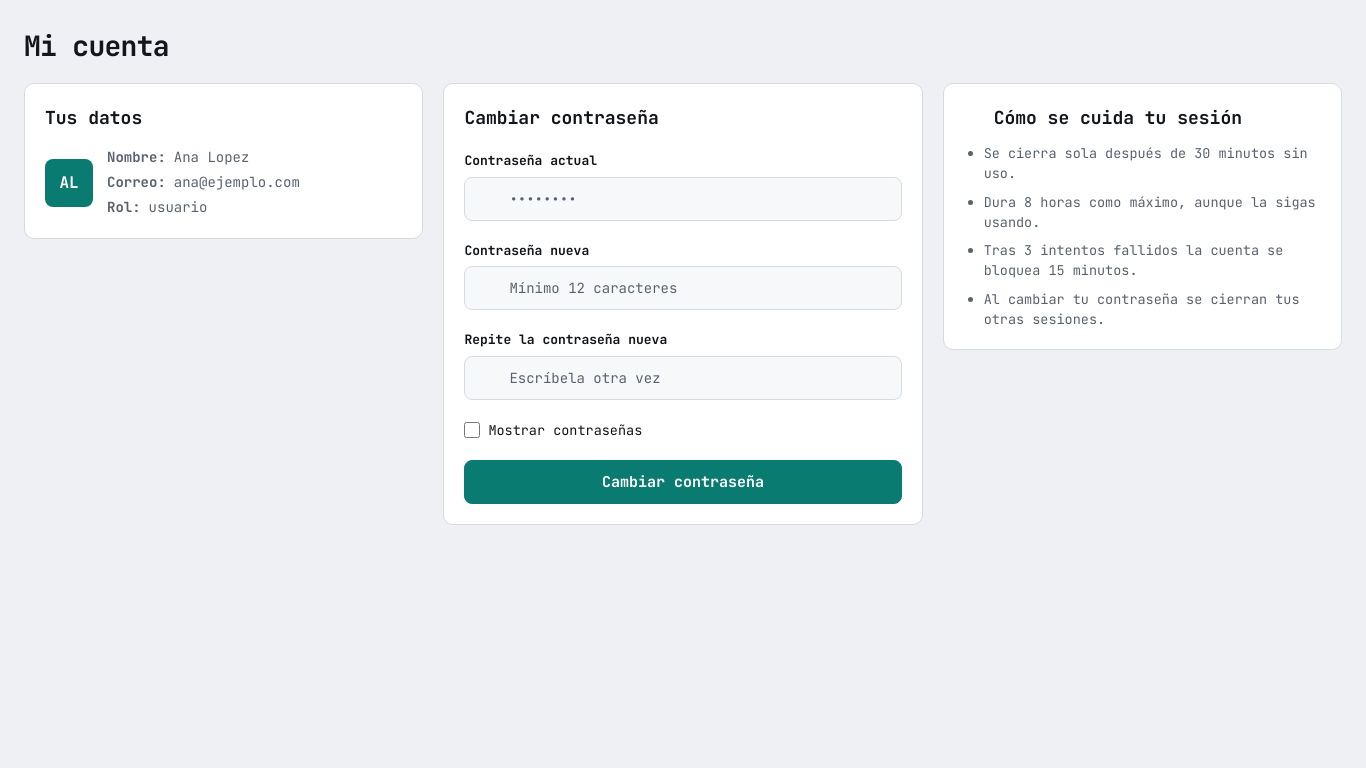
it: PaginaMiCuenta › muestra el aviso del motivo actual_incorrecta y conserva lo escrito
This screenshot has width=1366, height=768.
Type "la-clave-actual" into the password field labelled "Contraseña actual" at (683, 198), box [464,176,902,220]
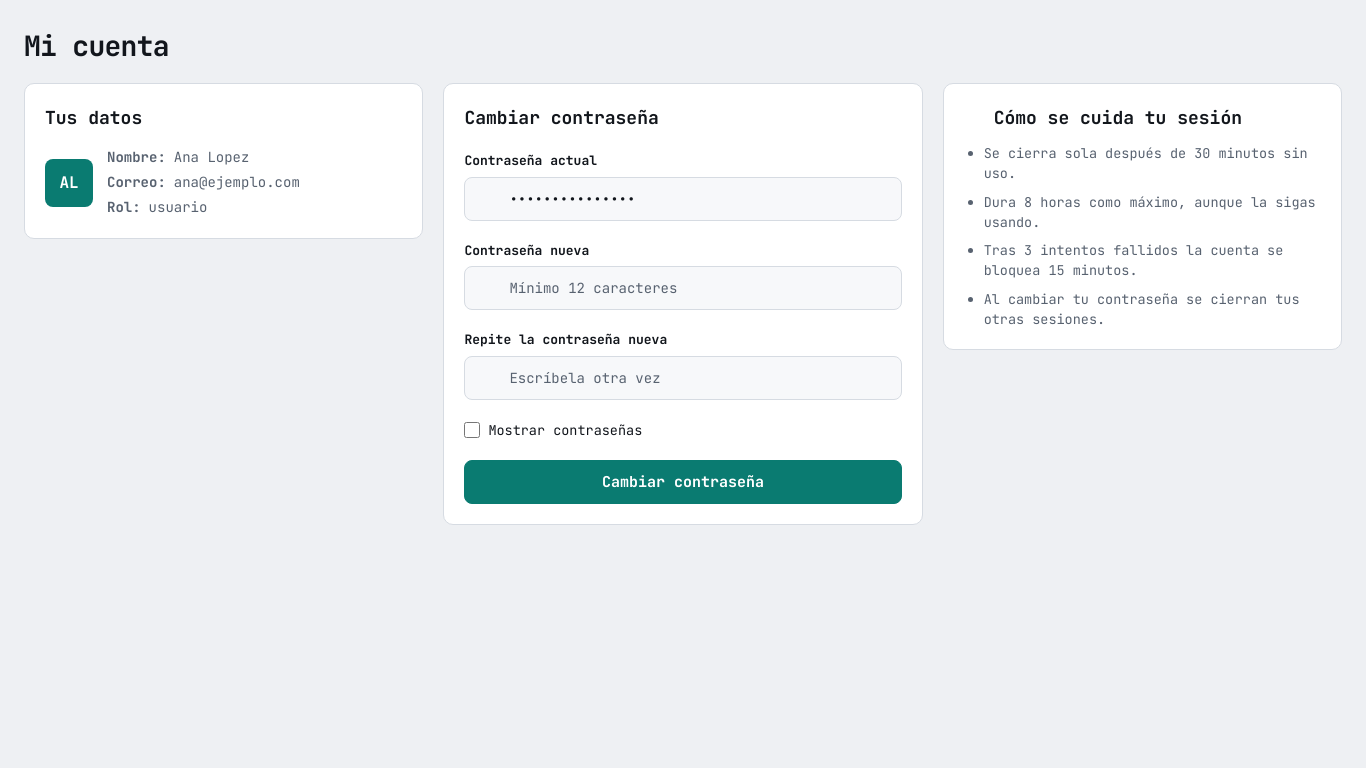
Type "una-clave-nueva-1" into the password field labelled "Contraseña nueva" at (683, 288), box [464,266,902,310]
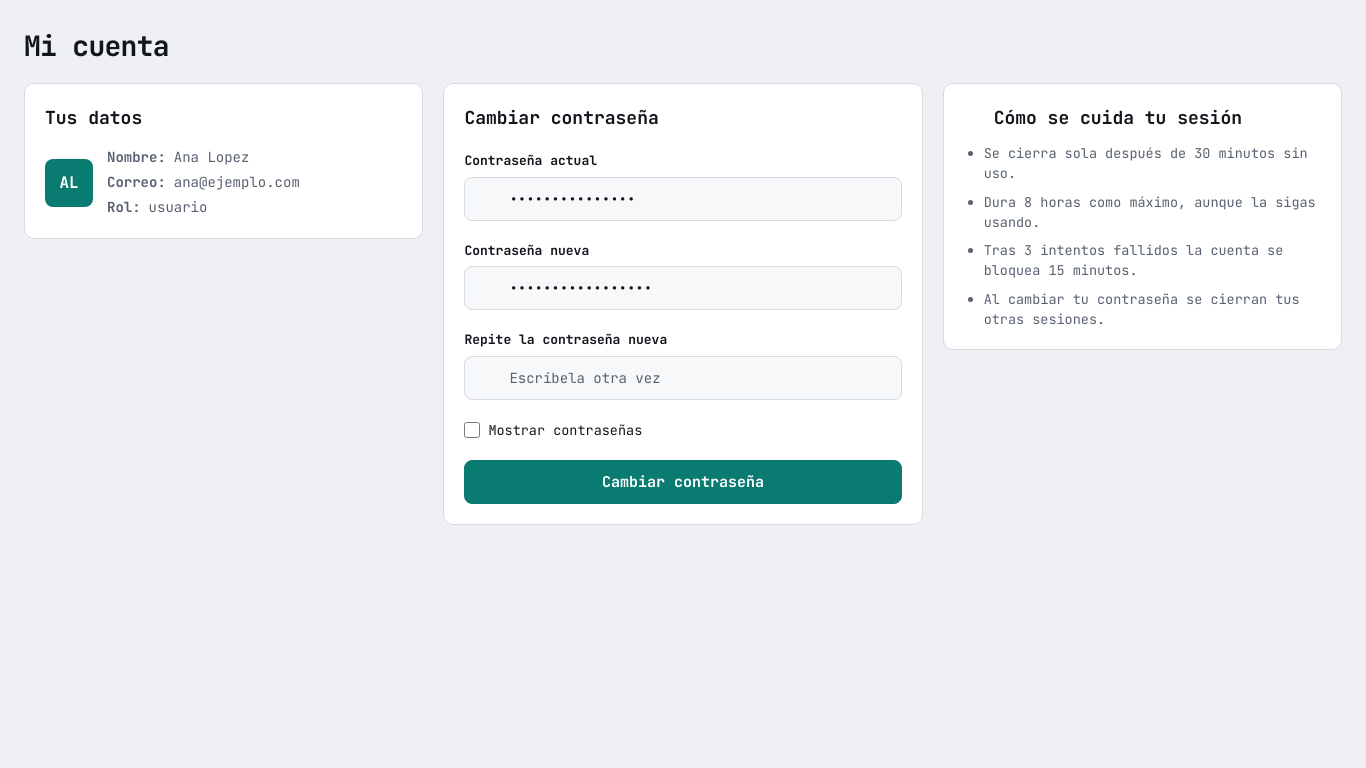
Type "una-clave-nueva-1" into the password field labelled "Repite la contraseña nueva" at (683, 378), box [464,356,902,400]
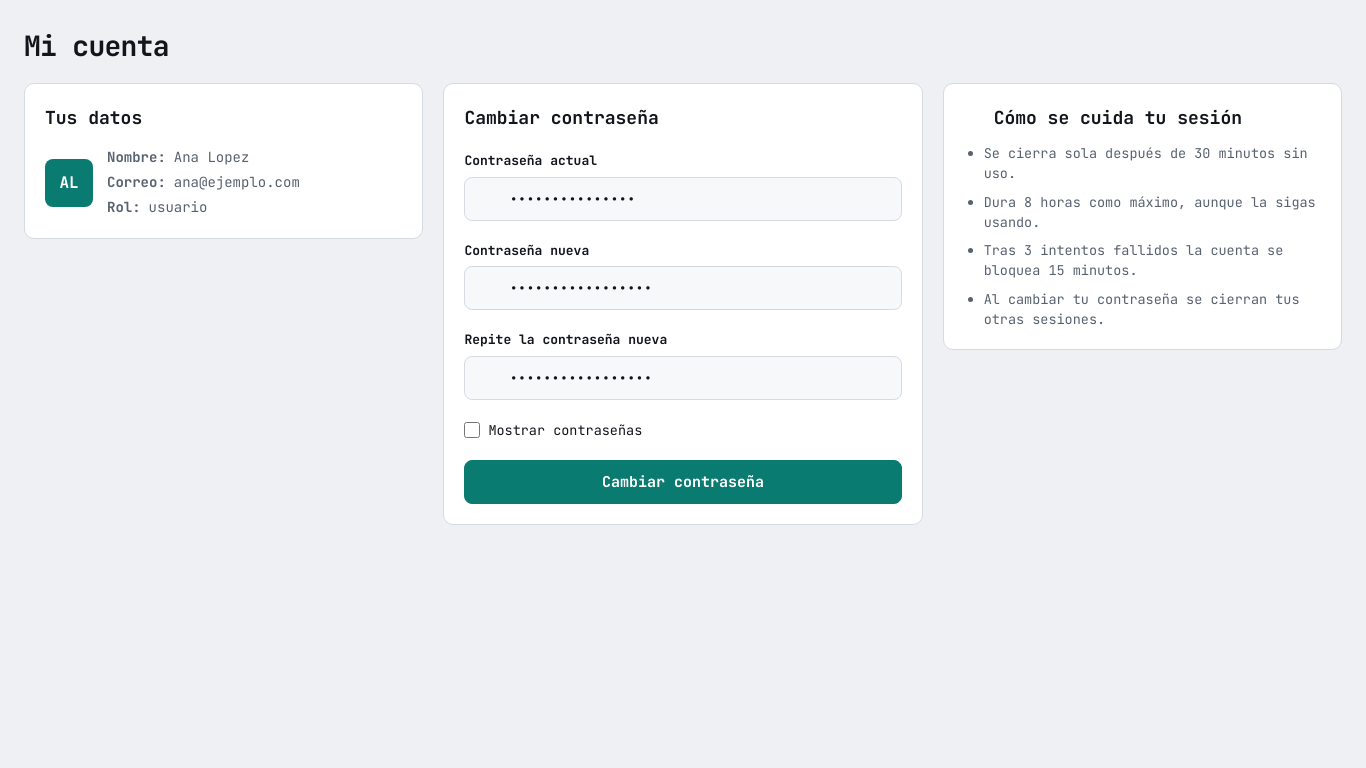
Click the button "Cambiar contraseña" at (683, 482), box [464,460,902,504]
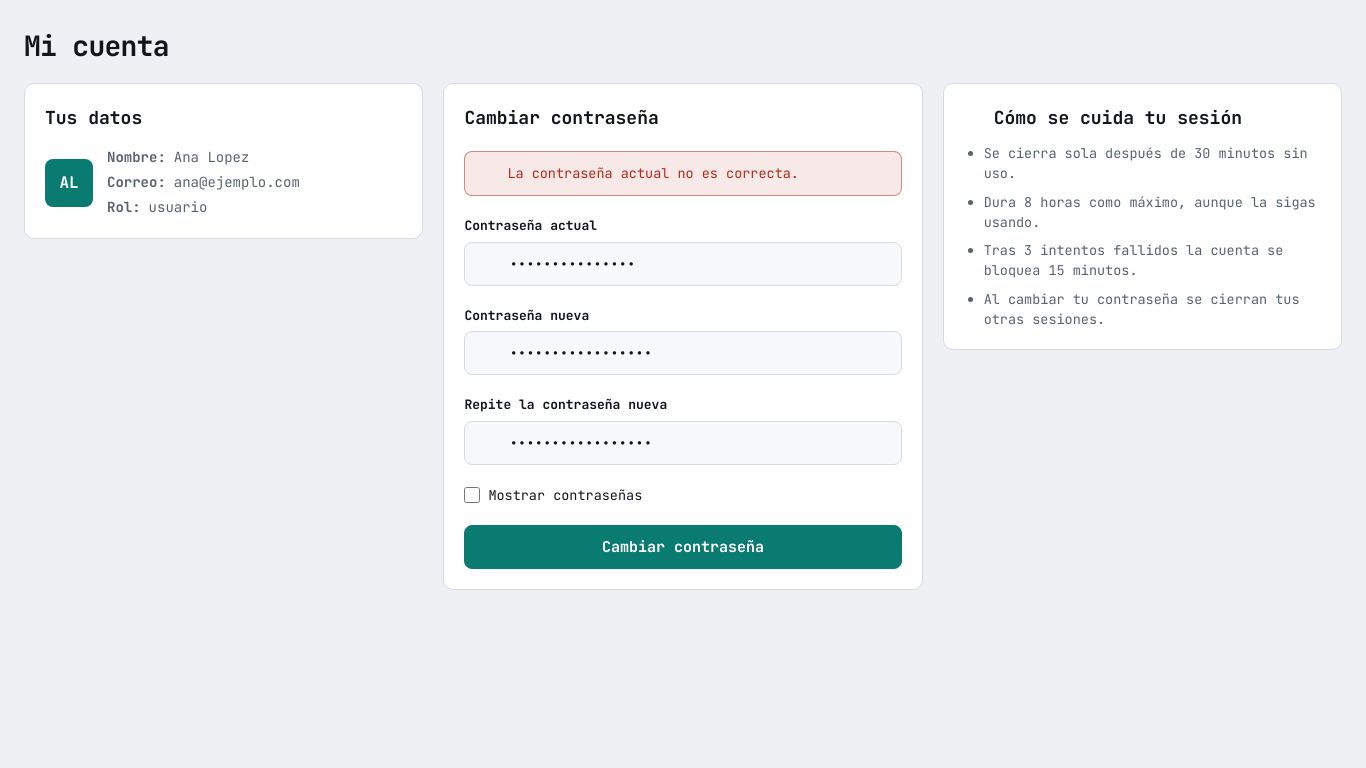
Result: the message reads "La contraseña actual no es correcta." at [507,164,799,182]
